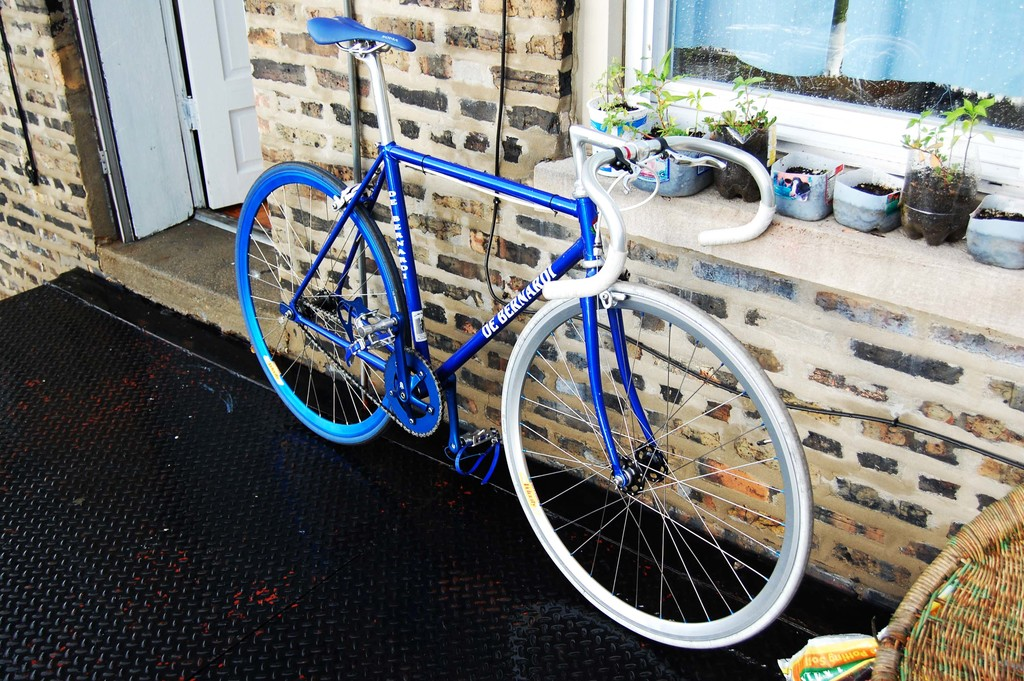Bike_toward: (227, 67, 789, 567)
